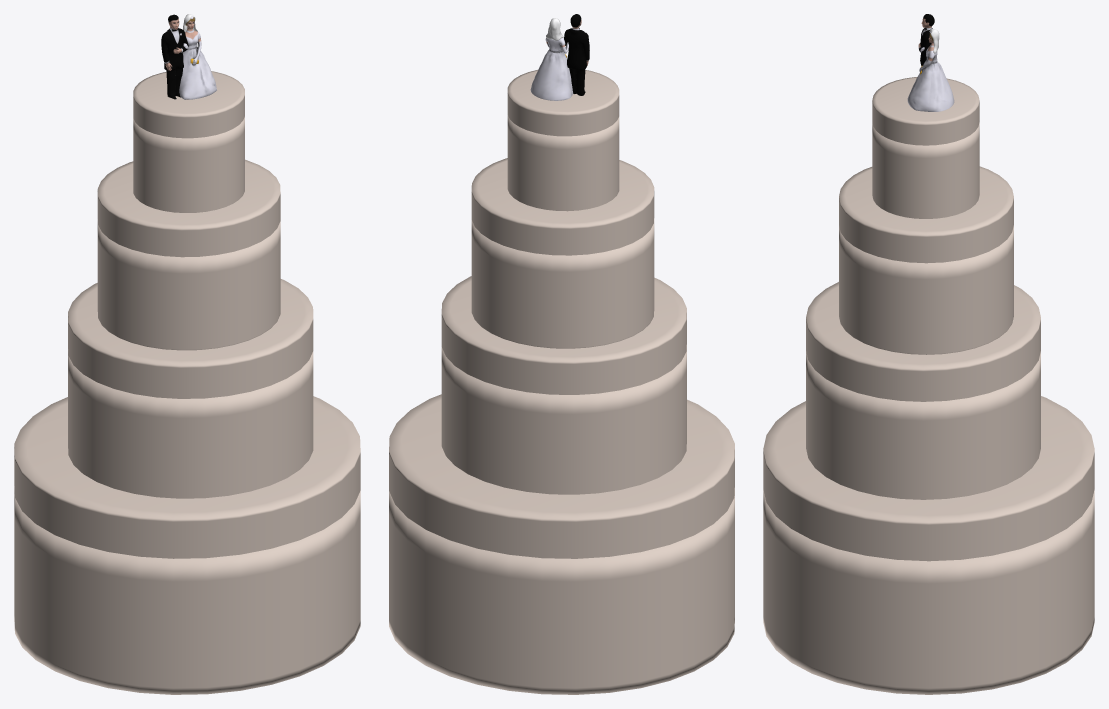
The model's file is 4-tier-white-none-bridegroom.glb.
The picture shows the model from 3 angles, left to right: view 1: azimuth 30°, elevation 25°; view 2: azimuth 150°, elevation 25°; view 3: azimuth 270°, elevation 25°; orthographic projection.
Visible parts, largest first — view 1: 3.001, 3, 2, 1, 13501_Cake_Topper_Bride_Groom_v1_L1.001; view 2: 3.001, 3, 2, 1, 13501_Cake_Topper_Bride_Groom_v1_L1.001; view 3: 3.001, 3, 2, 1, 13501_Cake_Topper_Bride_Groom_v1_L1.001.
Part boxes in pixels (bbox=[...]): 3.001: bbox=[14, 396, 360, 694]; 3: bbox=[68, 279, 313, 498]; 2: bbox=[97, 159, 280, 350]; 1: bbox=[133, 71, 244, 212]; 13501_Cake_Topper_Bride_Groom_v1_L1.001: bbox=[161, 14, 216, 99]; 3.001: bbox=[389, 394, 734, 694]; 3: bbox=[441, 276, 686, 494]; 2: bbox=[471, 158, 654, 348]; 1: bbox=[507, 70, 619, 211]; 13501_Cake_Topper_Bride_Groom_v1_L1.001: bbox=[530, 14, 589, 100]; 3.001: bbox=[763, 396, 1094, 694]; 3: bbox=[806, 282, 1040, 499]; 2: bbox=[839, 166, 1013, 354]; 1: bbox=[872, 77, 979, 218]; 13501_Cake_Topper_Bride_Groom_v1_L1.001: bbox=[907, 14, 954, 111].
Size of the model in its own units: 4.43 by 8.54 by 4.27.
2 materials, 1 textured.
